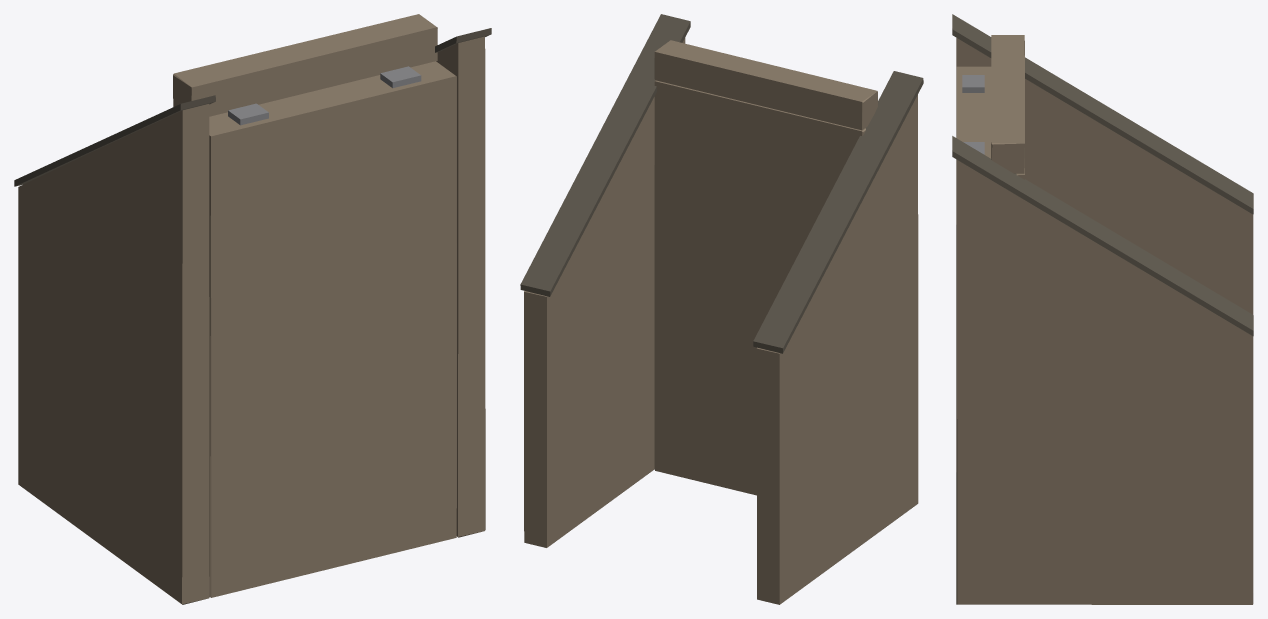
The model's file is bridge-abutment-lod1.glb.
3 renders of one model, left to right at view 1: azimuth 30°, elevation 25°; view 2: azimuth 150°, elevation 25°; view 3: azimuth 270°, elevation 25°, orthographic. The views are drawn at different scales.
Parts seen in each view (by area): view 1: bridge-abutment.001; view 2: bridge-abutment.001; view 3: bridge-abutment.001.
Boxes of the visible parts, x1,y1,x2,y2 form: bridge-abutment.001: (14, 14, 491, 604); bridge-abutment.001: (520, 14, 923, 604); bridge-abutment.001: (952, 14, 1253, 604).
Size of the model in its own units: 6.54 by 10.14 by 6.07.
